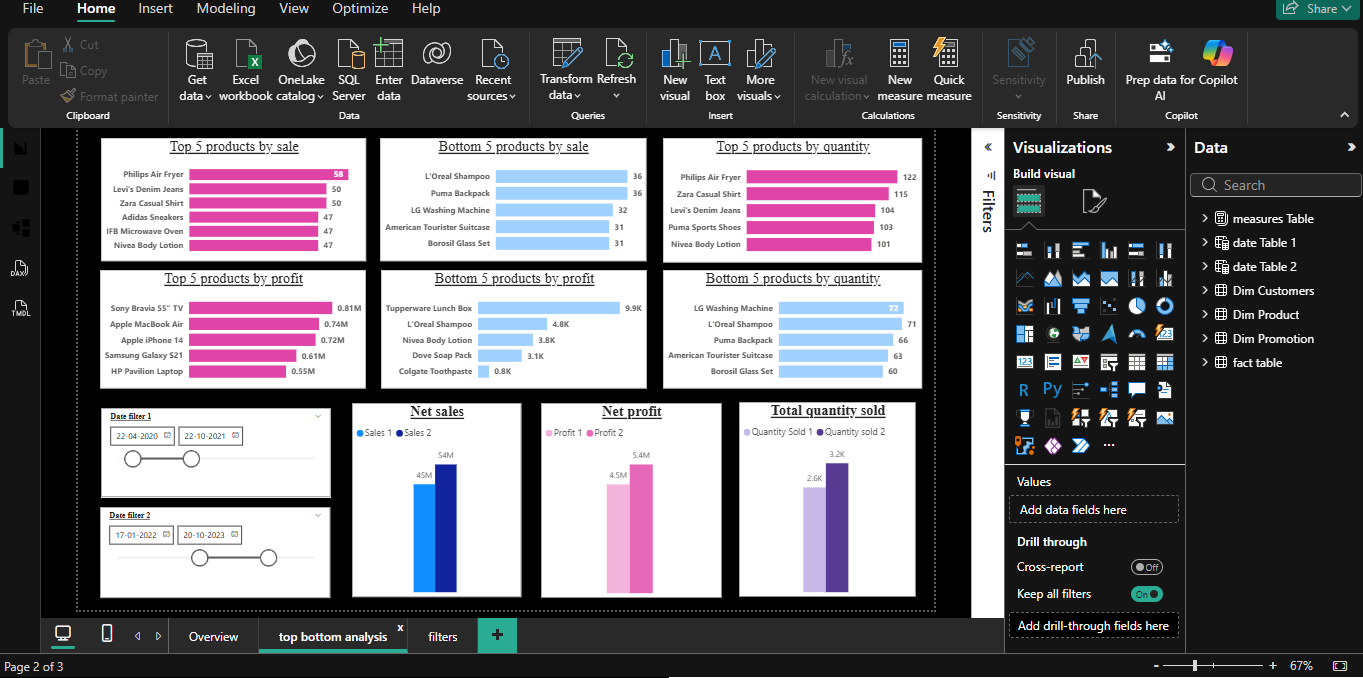

What the dashboard file says about the page in this screenshot:
{"tool":"powerbi","page":{"name":"top bottom analysis","canvas":[1280,720],"ordinal":1},"visuals":[{"type":"barChart","title":"Top 5 products by sale","fields":{"Category":["Dim Product.Product Name"],"Y":["CountNonNull(fact table.net sale)"]},"box":[33.8,15,396.2,183.8],"z":0},{"type":"barChart","title":"Bottom 5 products by sale","fields":{"Category":["Dim Product.Product Name"],"Y":["CountNonNull(fact table.net sale)"]},"box":[451.2,15,397.5,183.8],"z":1000},{"type":"barChart","title":"Top 5 products by profit","fields":{"Category":["Dim Product.Product Name"],"Y":["Sum(fact table.profit)"]},"box":[32.9,212.9,397.1,177.1],"z":2000},{"type":"barChart","title":"Bottom 5 products by profit","fields":{"Category":["Dim Product.Product Name"],"Y":["Sum(fact table.profit)"]},"box":[452.9,212.9,397.1,177.1],"z":3000},{"type":"barChart","title":"Top 5 products by quantity","fields":{"Category":["Dim Product.Product Name"],"Y":["Sum(fact table.Units Sold)"]},"box":[874.3,14.3,387.1,185.7],"z":4000},{"type":"barChart","title":"Bottom 5 products by quantity","fields":{"Category":["Dim Product.Product Name"],"Y":["Sum(fact table.Units Sold)"]},"box":[874.3,212.9,387.1,177.1],"z":5000},{"type":"slicer","fields":{"Values":["date Table 1.Date"]},"box":[34.3,418.6,342.9,132.9],"z":6000},{"type":"slicer","fields":{"Values":["date Table 2.Date"]},"box":[32.9,565.7,344.3,135.7],"z":7000},{"type":"clusteredColumnChart","title":"Net sales","fields":{"Y":["Sum(fact table.net sale)","date Table 1.sum of net sales"]},"box":[410,411.4,252.9,290],"z":8000},{"type":"clusteredColumnChart","title":"Net profit","fields":{"Y":["Sum(fact table.profit)","measures Table.sum of profit"]},"box":[691.4,411.4,270,291.4],"z":9000},{"type":"clusteredColumnChart","title":"Total quantity sold","fields":{"Y":["Sum(fact table.Units Sold)","measures Table.total quantity sold"]},"box":[987.1,410,264.3,291.4],"z":10000}]}

Visuals, with their boxes on the page's 1280x720 design canvas (x1, y1, x2, y2). These are canvas units, not pixel positions in the 1363x678 screenshot, which may show the page scaled, cropped or inside an application window:
"Top 5 products by sale" barChart: [34,15,430,199]
"Bottom 5 products by sale" barChart: [451,15,849,199]
"Top 5 products by profit" barChart: [33,213,430,390]
"Bottom 5 products by profit" barChart: [453,213,850,390]
"Top 5 products by quantity" barChart: [874,14,1261,200]
"Bottom 5 products by quantity" barChart: [874,213,1261,390]
slicer - date Table 1.Date: [34,419,377,552]
slicer - date Table 2.Date: [33,566,377,701]
"Net sales" clusteredColumnChart: [410,411,663,701]
"Net profit" clusteredColumnChart: [691,411,961,703]
"Total quantity sold" clusteredColumnChart: [987,410,1251,701]
